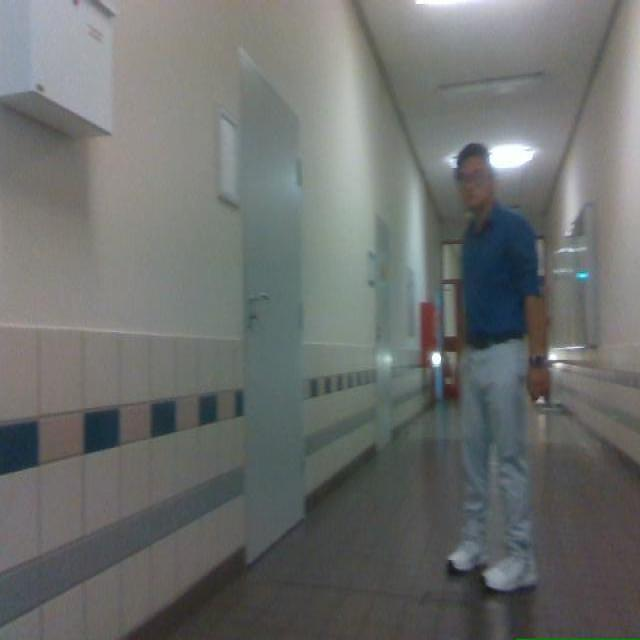humans: (447, 144, 549, 591)
